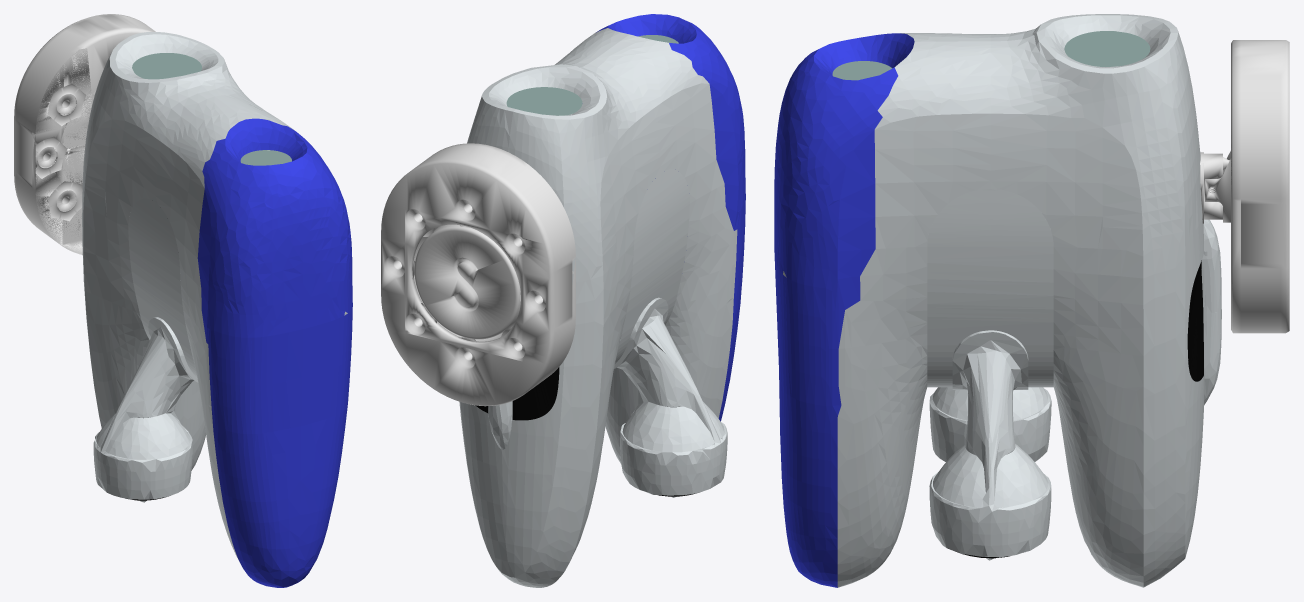
The model's file is blueye.dae.
3 views of the same model, side by side, from view 1: azimuth 30°, elevation 25°; view 2: azimuth 150°, elevation 25°; view 3: azimuth 270°, elevation 25° (orthographic). The views are drawn at different scales.
Parts seen in each view (by area): view 1: pioneer_rescaled, puck; view 2: pioneer_rescaled, puck; view 3: pioneer_rescaled, puck.
Part boxes in pixels (bbox=[...]): pioneer_rescaled: bbox=[82, 32, 352, 587]; puck: bbox=[14, 14, 155, 254]; pioneer_rescaled: bbox=[459, 14, 745, 587]; puck: bbox=[381, 143, 575, 406]; pioneer_rescaled: bbox=[774, 14, 1221, 587]; puck: bbox=[1200, 40, 1289, 333].
Bounding box in the file's own units: 0.2535 × 0.4028 × 0.4743.
